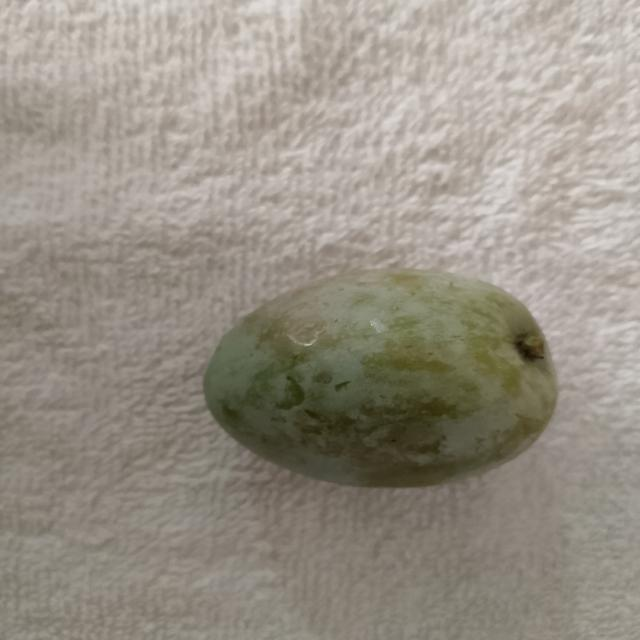mango: (203, 255, 562, 492)
